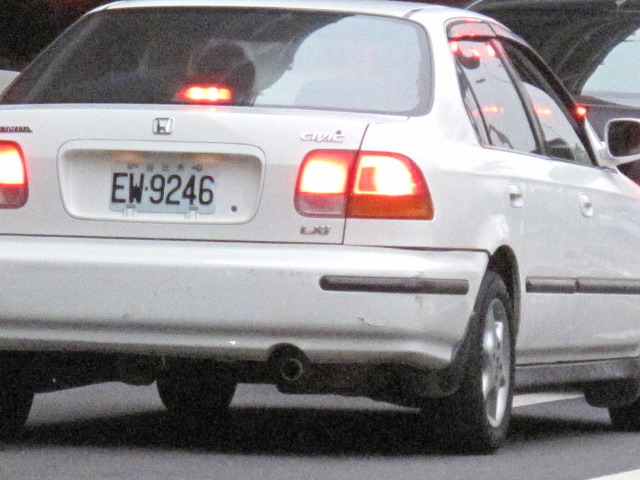plate: (108, 157, 220, 216)
